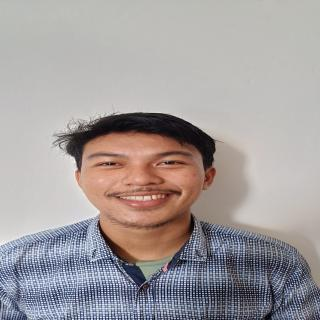Senang: (65, 124, 223, 234)
